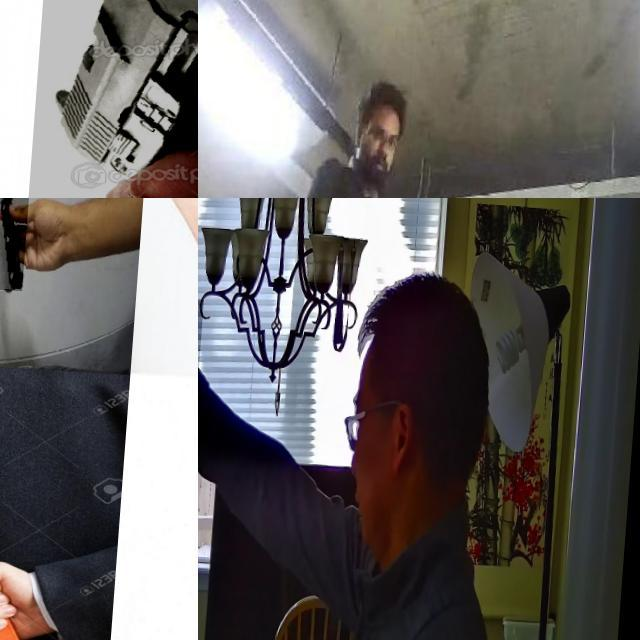-: (0, 389, 89, 614), (0, 198, 36, 291)
gun-knife-thesis - v11 Yolov5 augmented: (24, 0, 198, 198), (198, 292, 258, 449)
